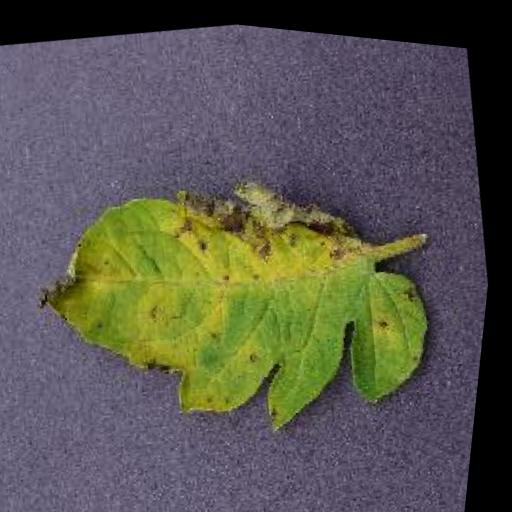Septoria: (10, 124, 469, 488)
